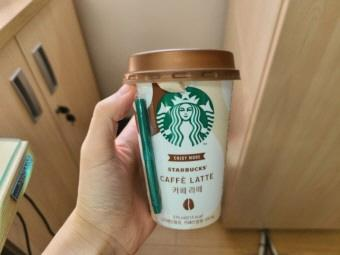starbucks_cafelatte: (114, 47, 253, 229)
